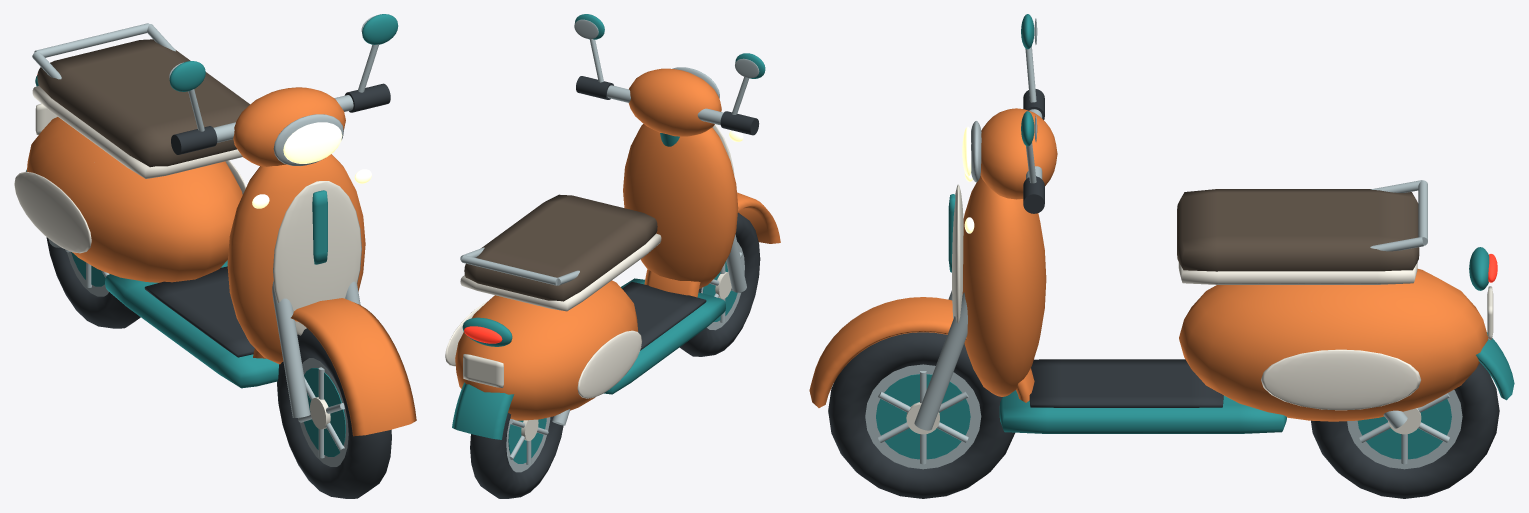
File: nb_scooter.glb
3 views of the same model, side by side, from view 1: azimuth 30°, elevation 25°; view 2: azimuth 150°, elevation 25°; view 3: azimuth 270°, elevation 25° (orthographic). The views are drawn at different scales.
Visible parts, largest first — view 1: delivery orange, rubber charcoal (×3), seat leather, deep teal (×2), warm porcelain (×2), satin silver (×3), edge cream, warm headlamp; view 2: delivery orange, seat leather, rubber charcoal (×3), deep teal (×3), satin silver (×3), edge cream, warm porcelain, brake red; view 3: delivery orange, rubber charcoal (×3), seat leather, deep teal (×3), satin silver (×3), edge cream, warm porcelain.
Part boxes in pixels (left/top/right/bottom): delivery orange: left=27, top=87, right=416, bottom=436; rubber charcoal (×3): left=46, top=83, right=391, bottom=498; seat leather: left=37, top=39, right=249, bottom=167; deep teal (×2): left=26, top=14, right=398, bottom=456; warm porcelain (×2): left=35, top=103, right=361, bottom=429; satin silver (×3): left=32, top=15, right=378, bottom=466; edge cream: left=14, top=86, right=246, bottom=253; warm headlamp: left=252, top=122, right=371, bottom=208; delivery orange: left=455, top=68, right=780, bottom=420; seat leather: left=464, top=194, right=657, bottom=301; rubber charcoal (×3): left=470, top=76, right=760, bottom=498; deep teal (×3): left=452, top=14, right=765, bottom=463; satin silver (×3): left=460, top=19, right=759, bottom=472; edge cream: left=445, top=233, right=661, bottom=398; warm porcelain: left=463, top=124, right=734, bottom=388; brake red: left=464, top=326, right=502, bottom=343; delivery orange: left=809, top=108, right=1488, bottom=421; rubber charcoal (×3): left=828, top=89, right=1499, bottom=498; seat leather: left=1177, top=189, right=1419, bottom=271; deep teal (×3): left=876, top=14, right=1514, bottom=459; satin silver (×3): left=865, top=18, right=1462, bottom=469; edge cream: left=1178, top=262, right=1420, bottom=410; warm porcelain: left=952, top=184, right=1493, bottom=340.
Bounding box in the file's own units: 0.731 × 1.28 × 1.89.
